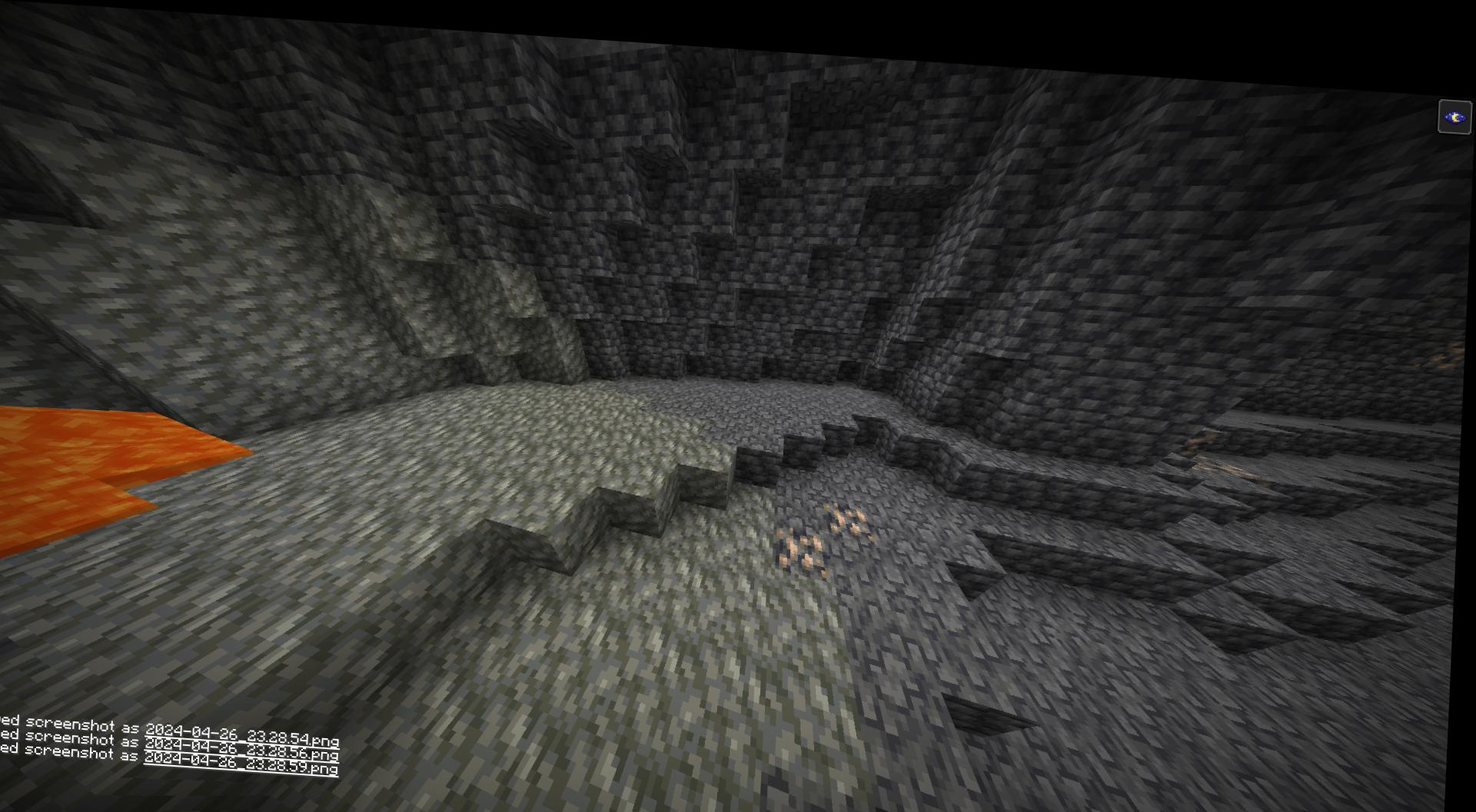iron ore: (1191, 410, 1248, 465), (777, 514, 826, 566), (831, 488, 876, 532), (1428, 317, 1468, 363)
